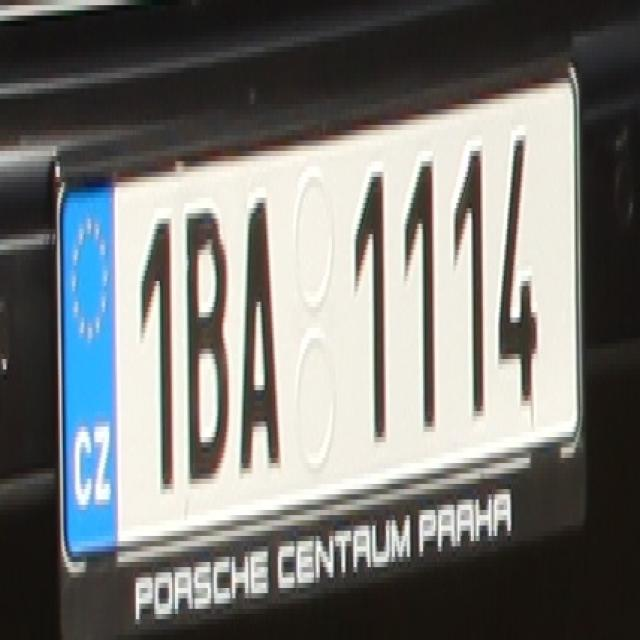1: (350, 166, 389, 448), (404, 162, 441, 442), (140, 223, 176, 500), (452, 151, 488, 427)
4: (495, 130, 538, 406)
A: (238, 198, 280, 468)
B: (184, 203, 227, 484)
